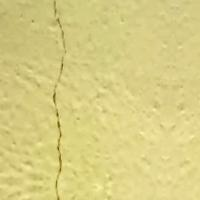crack: (40, 0, 74, 199)
